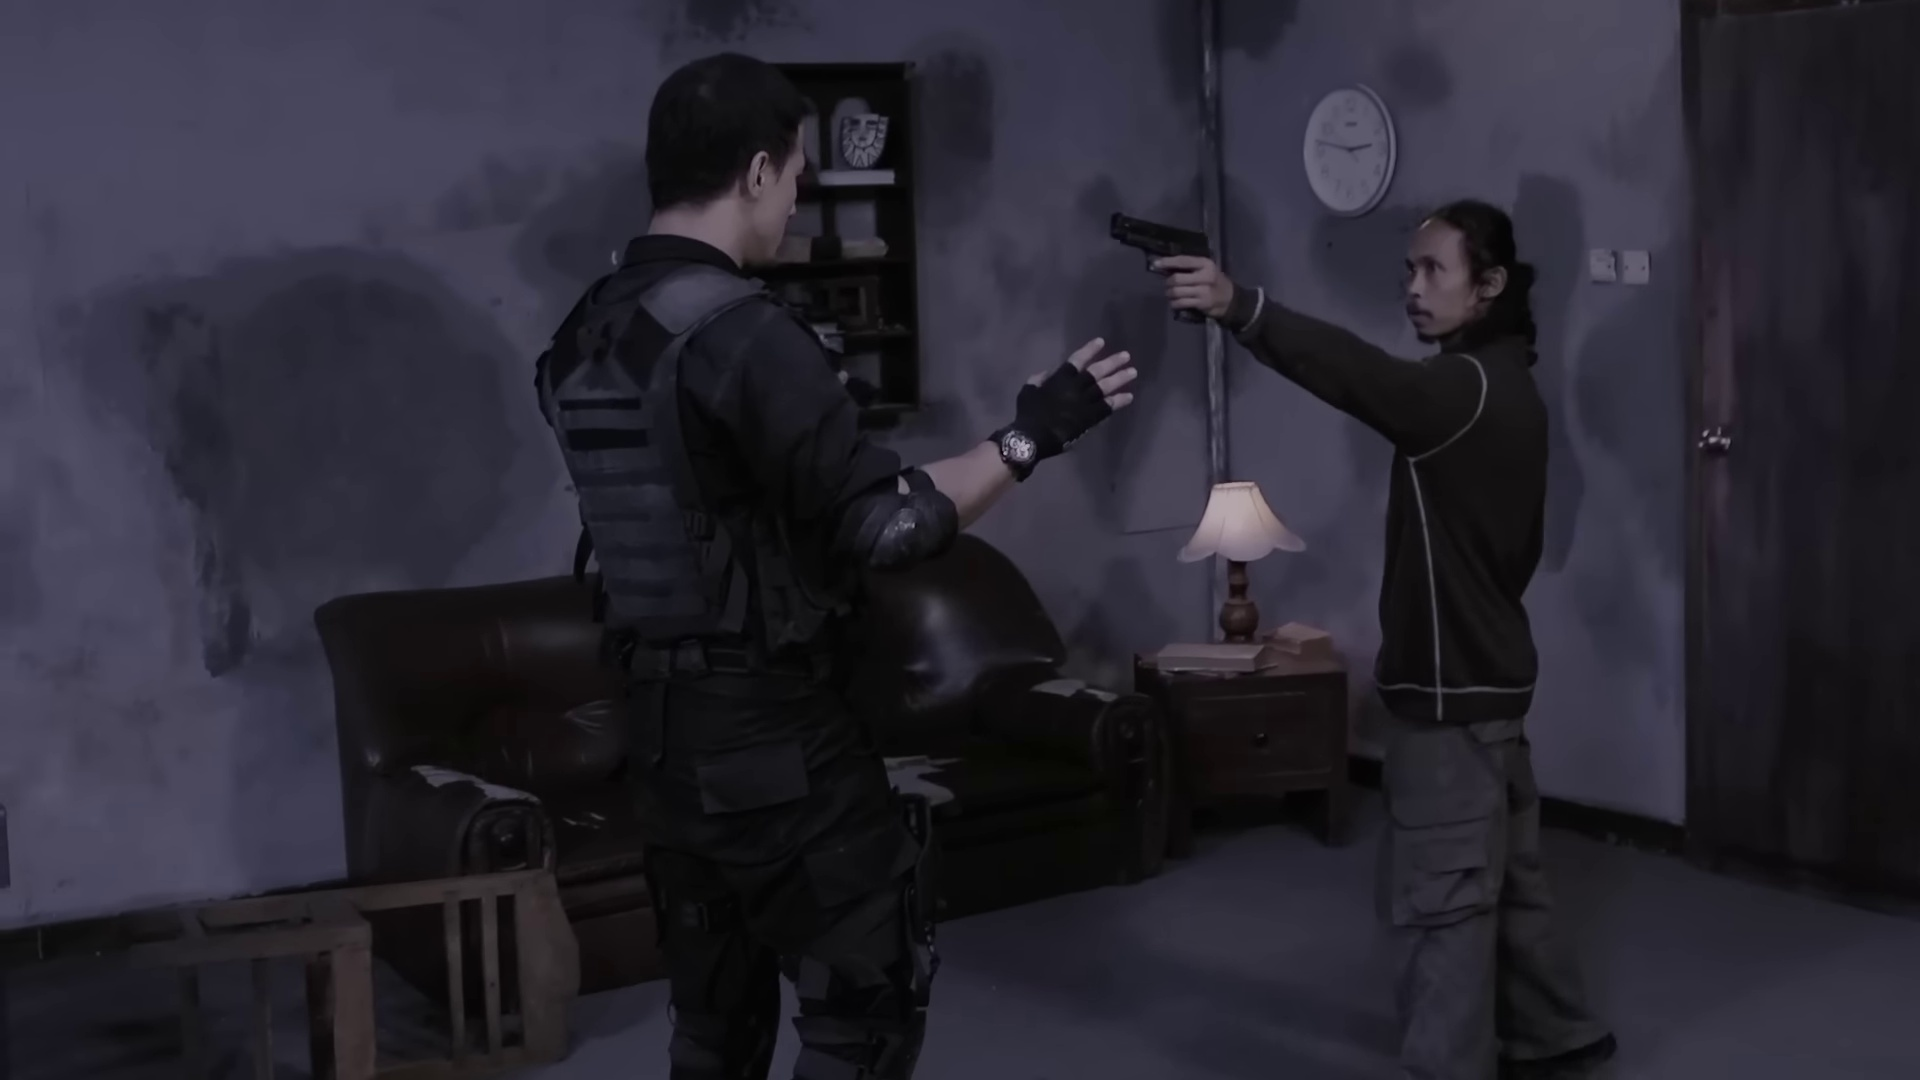gun: (1105, 208, 1217, 323)
p_w_gun: (1106, 193, 1631, 1080)
p_wo_gun_not_carrying_normal_pose: (531, 47, 1153, 1080)
